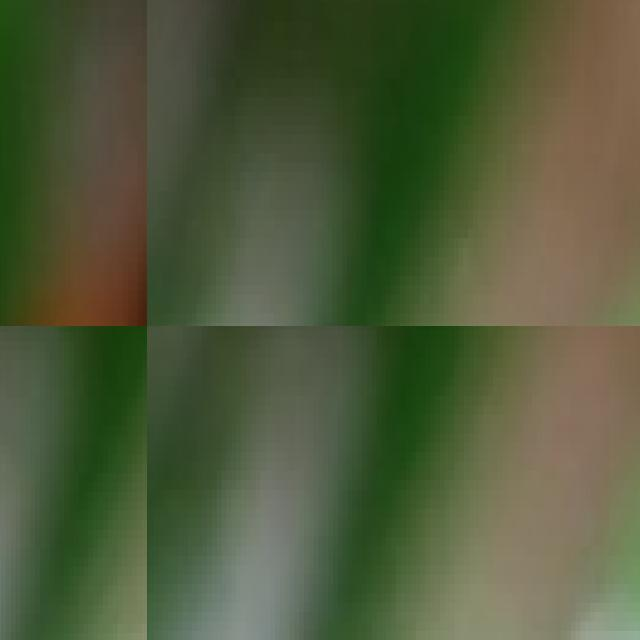fish: (0, 0, 147, 326)
